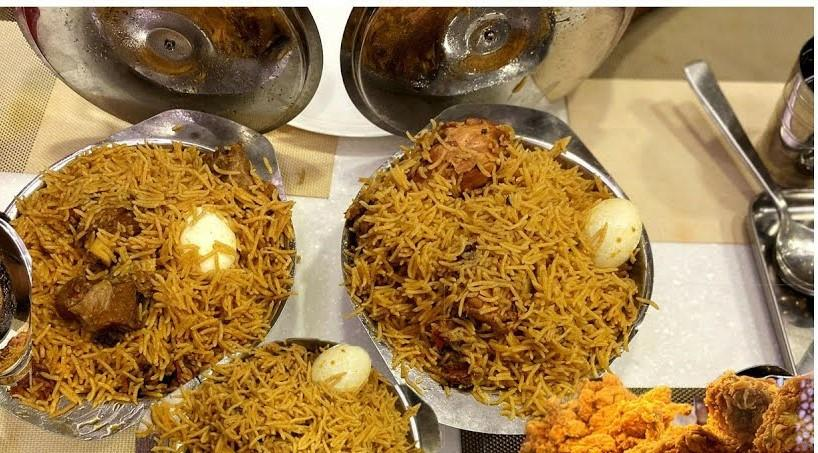Biryani: (353, 119, 636, 404), (0, 137, 294, 407), (157, 338, 415, 453)
